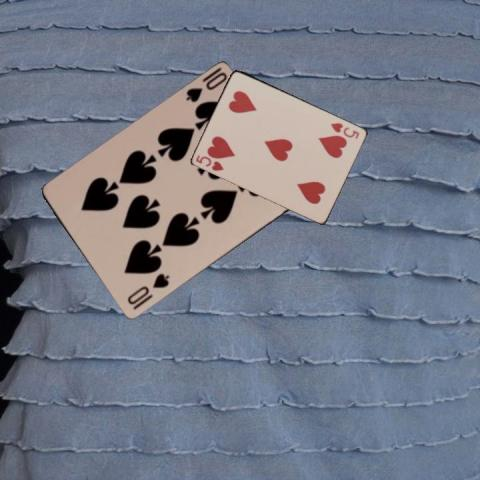10s: (124, 270, 171, 306), (182, 69, 228, 105)
5h: (327, 119, 361, 140), (193, 152, 225, 173)
